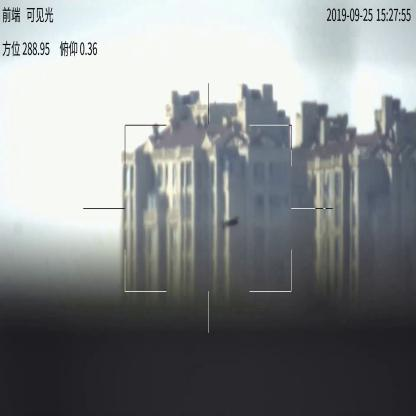uav: (222, 217, 239, 230)
